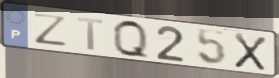2: (155, 24, 187, 64)
5: (193, 28, 229, 67)
Q: (110, 18, 152, 62)
T: (75, 15, 106, 52)
X: (233, 31, 269, 73)
Z: (31, 11, 70, 48)
